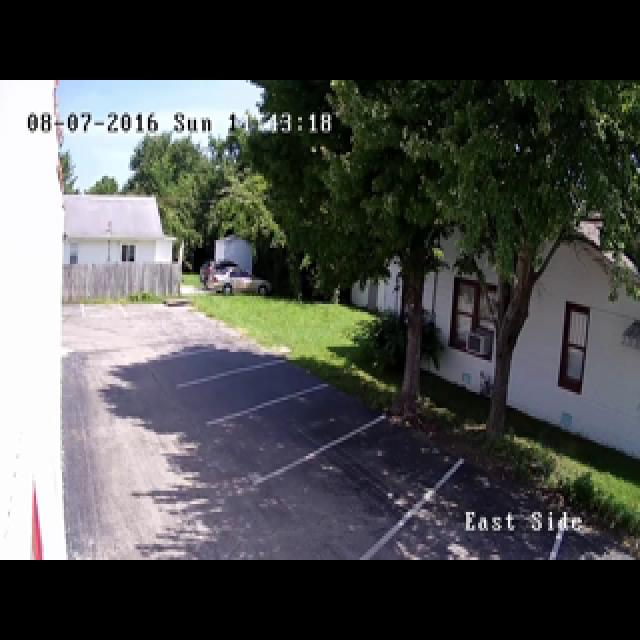arson: (196, 223, 557, 544)
